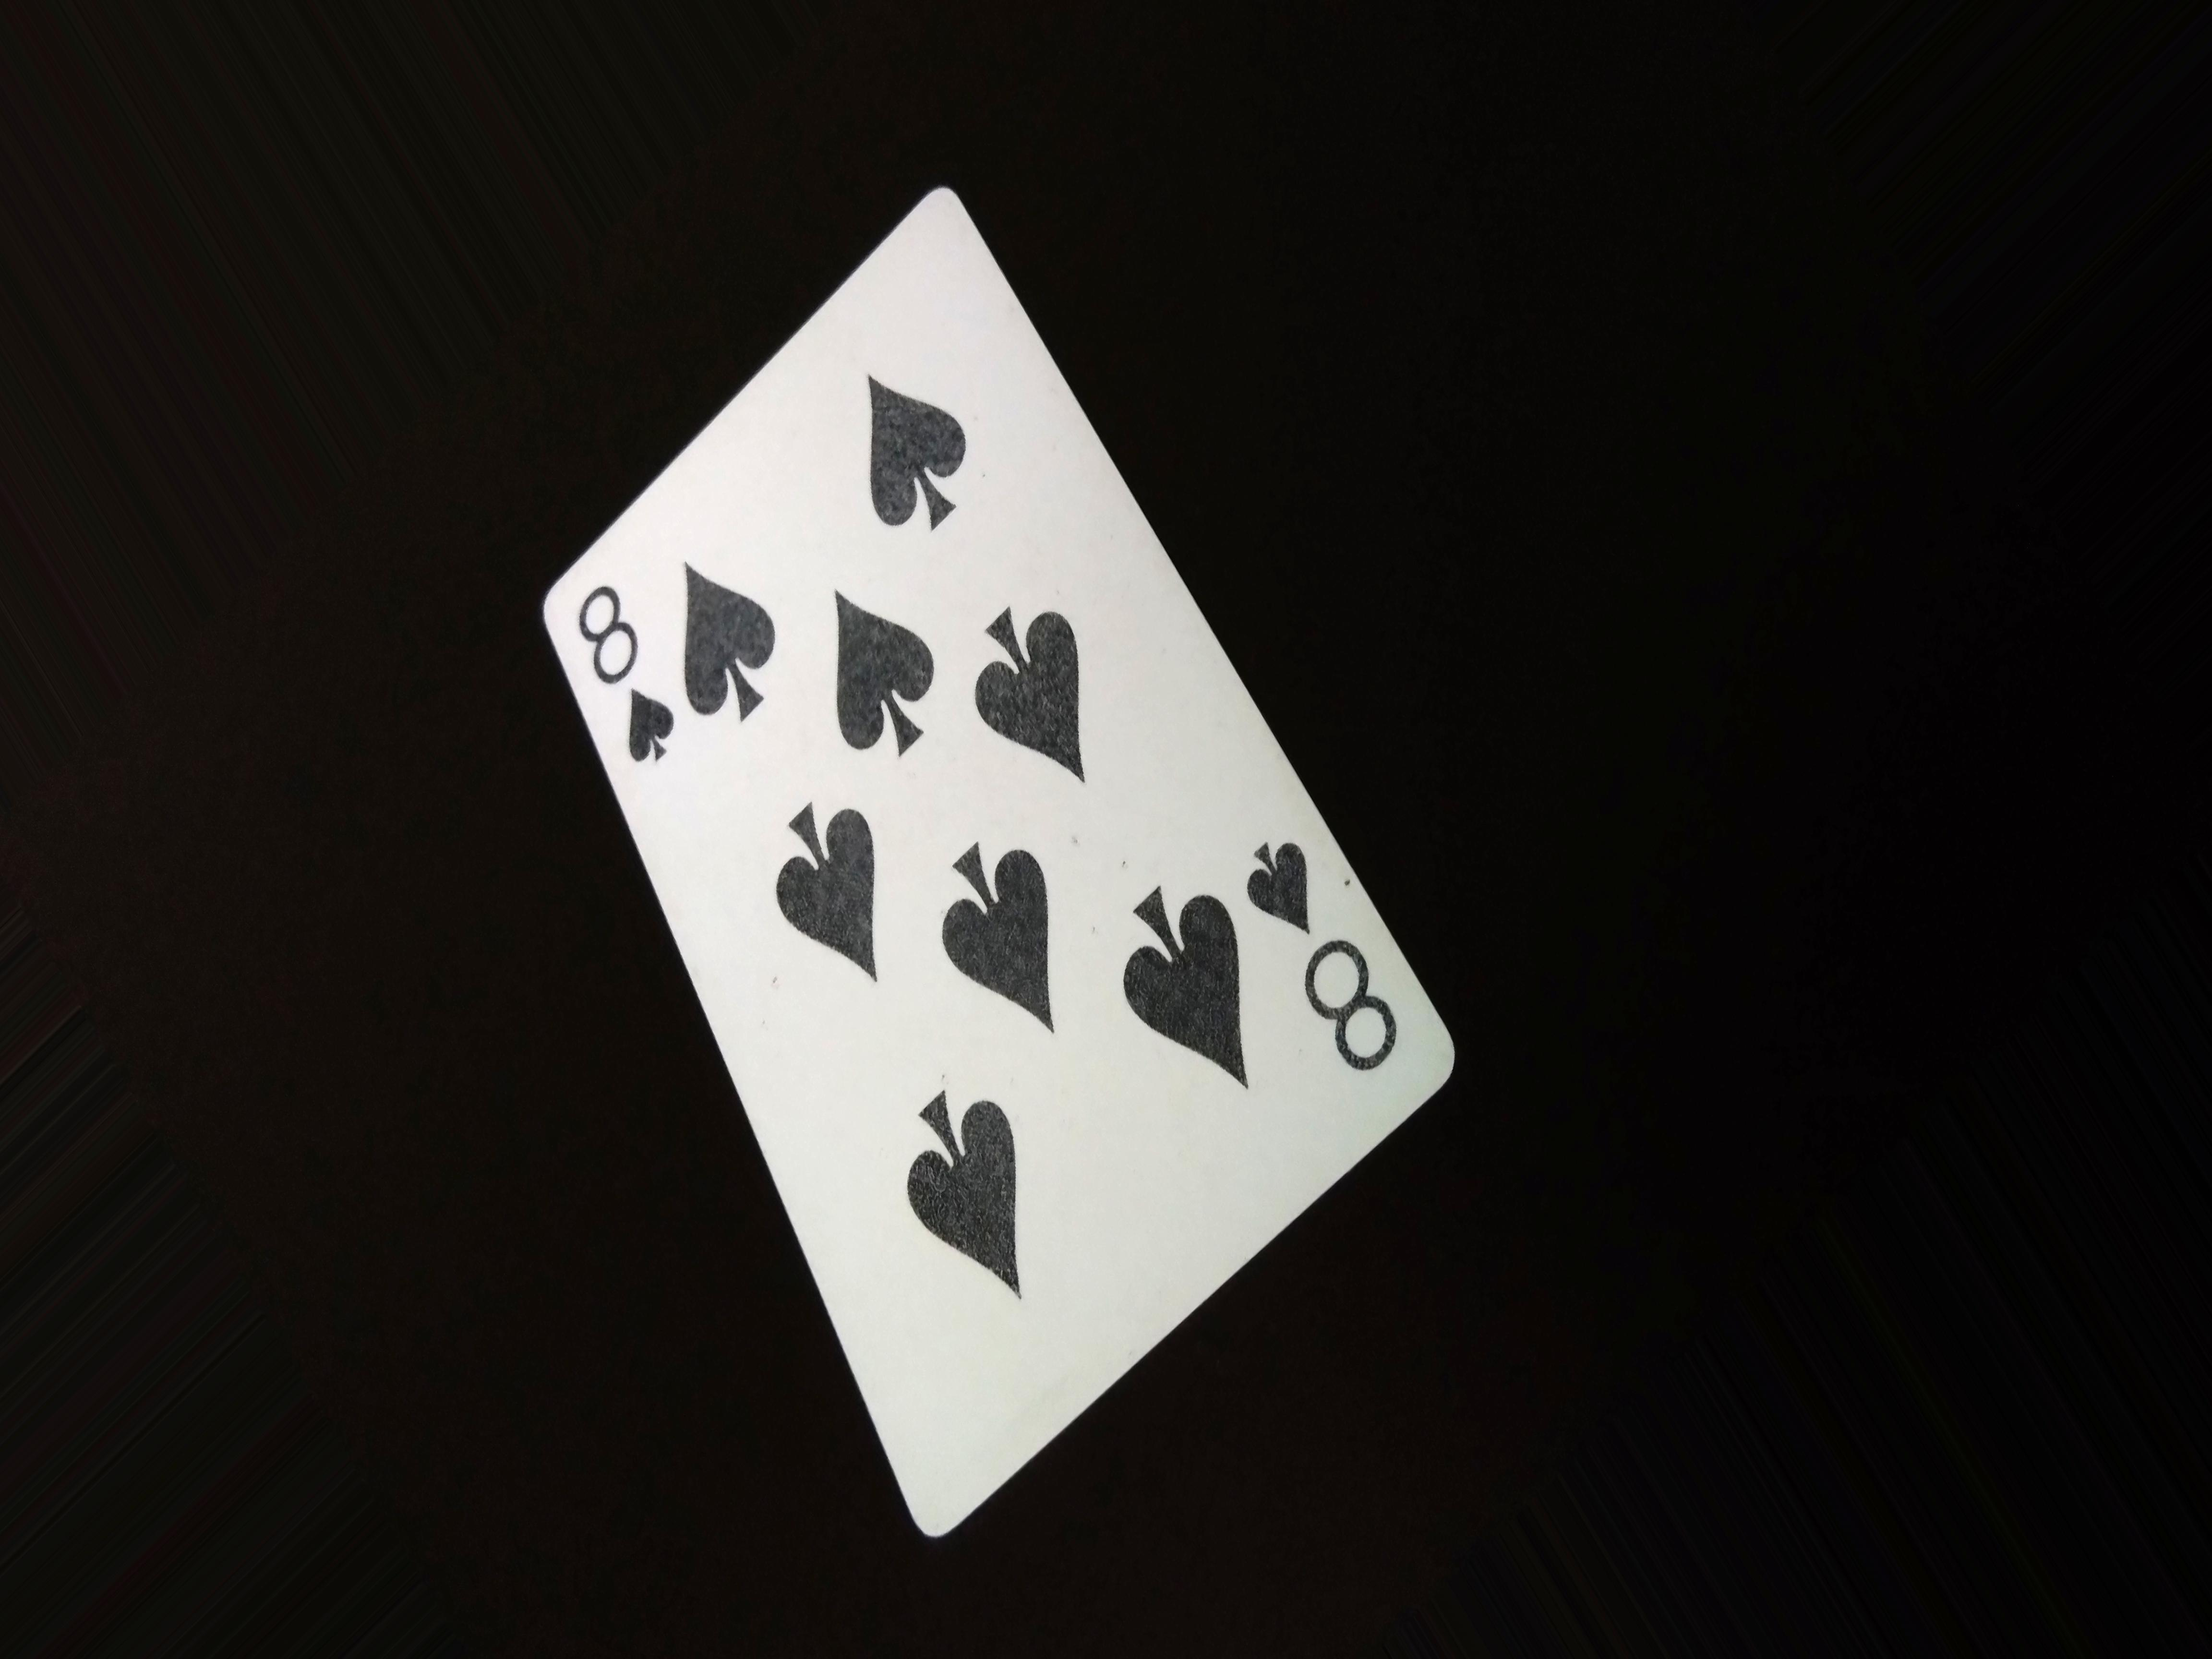8S: (570, 575, 681, 779)
